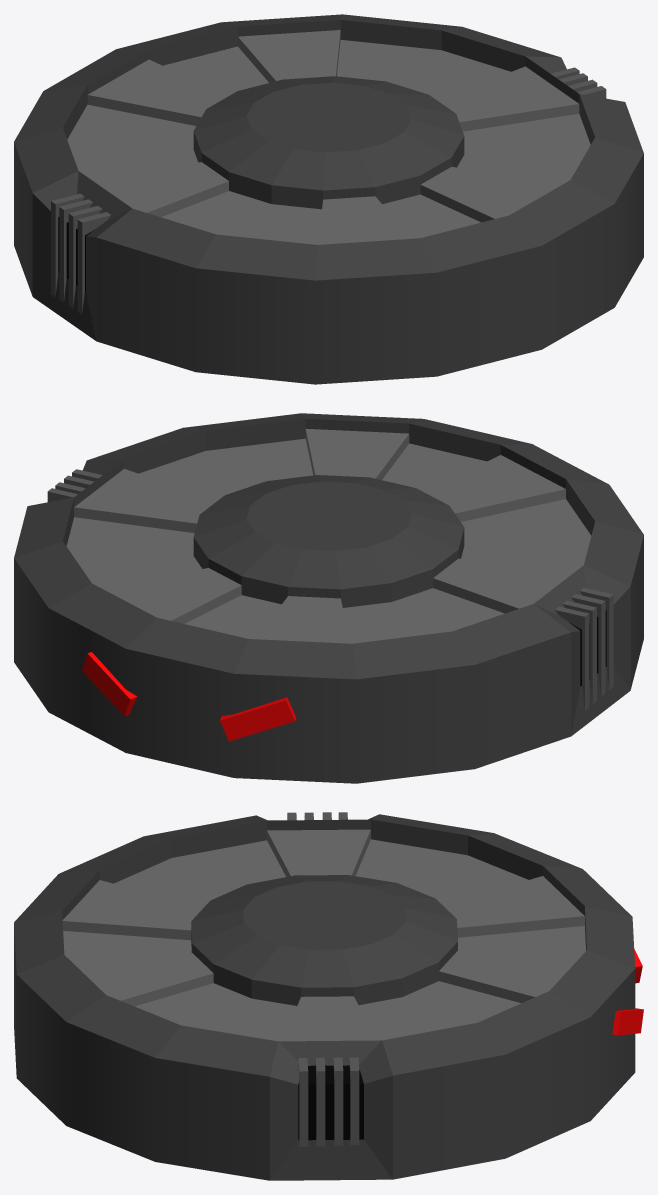
Rendered from SM_Roomba.fbx.
3 renders of one model, top to bottom at view 1: azimuth 30°, elevation 25°; view 2: azimuth 150°, elevation 25°; view 3: azimuth 270°, elevation 25°, orthographic.
Parts seen in each view (by area): view 1: polySurface2; view 2: polySurface2; view 3: polySurface2.
Part boxes in pixels (left/top/right/bottom): polySurface2: left=14, top=14, right=643, bottom=384; polySurface2: left=14, top=413, right=643, bottom=783; polySurface2: left=14, top=812, right=643, bottom=1180.
Size of the model in its own units: 8.39 by 2.34 by 8.5.
